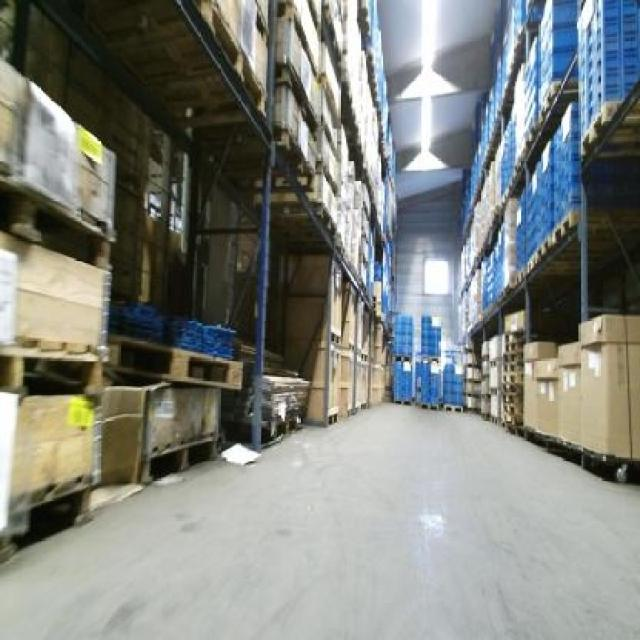floor: (0, 402, 637, 637)
pallets: (577, 312, 637, 457)
